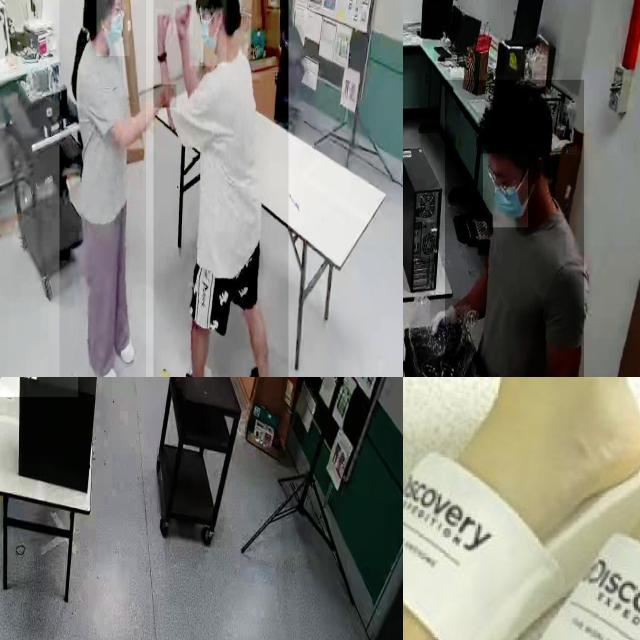Sandals: (465, 377, 640, 640)
face_mask: (483, 154, 528, 228), (189, 0, 226, 65), (96, 0, 129, 56)
hand_glove: (430, 298, 460, 342)
hand_noglove: (174, 2, 194, 34), (153, 85, 177, 108), (156, 9, 170, 35)
head_nohelmet: (482, 75, 552, 141)
person: (153, 0, 288, 377), (445, 79, 584, 377), (59, 0, 146, 377)
shoes: (112, 319, 136, 367), (88, 346, 119, 377), (244, 360, 279, 377)
